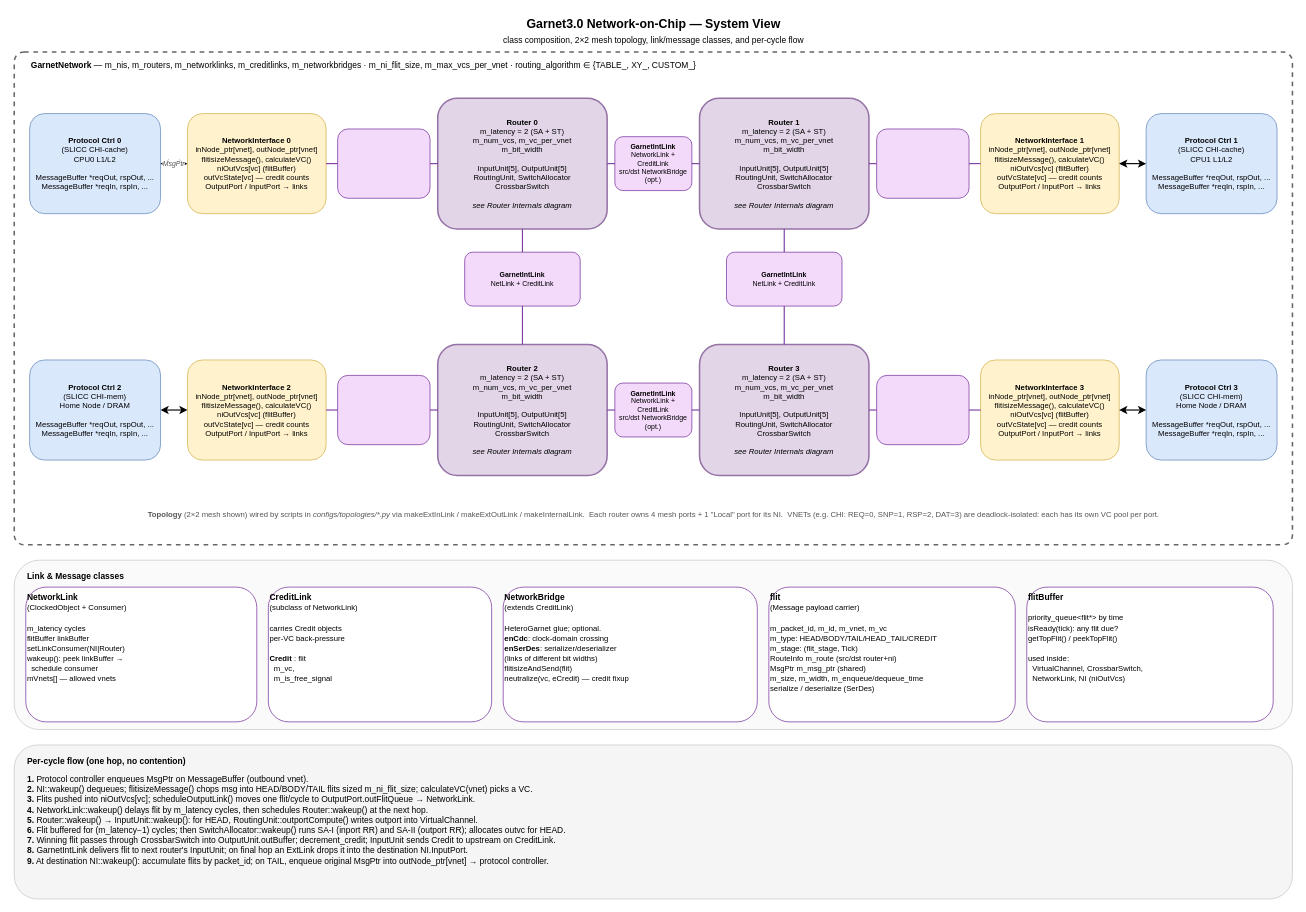
This 1306x912 diagram has some shape labels left out. Here are the shapes that lost their labels. From the top down, the centre of each, then its label:
At point 383,163: "GarnetExtLink 0 NetworkLink ×2 CreditLink ×2 NetworkBridge ×2 (opt.)".
At point 922,163: "GarnetExtLink 1 NetworkLink ×2 CreditLink ×2 NetworkBridge ×2 (opt.)".
At point 383,410: "GarnetExtLink 2 NetworkLink ×2 CreditLink ×2 NetworkBridge ×2 (opt.)".
At point 922,410: "GarnetExtLink 3 NetworkLink ×2 CreditLink ×2 NetworkBridge ×2 (opt.)".
